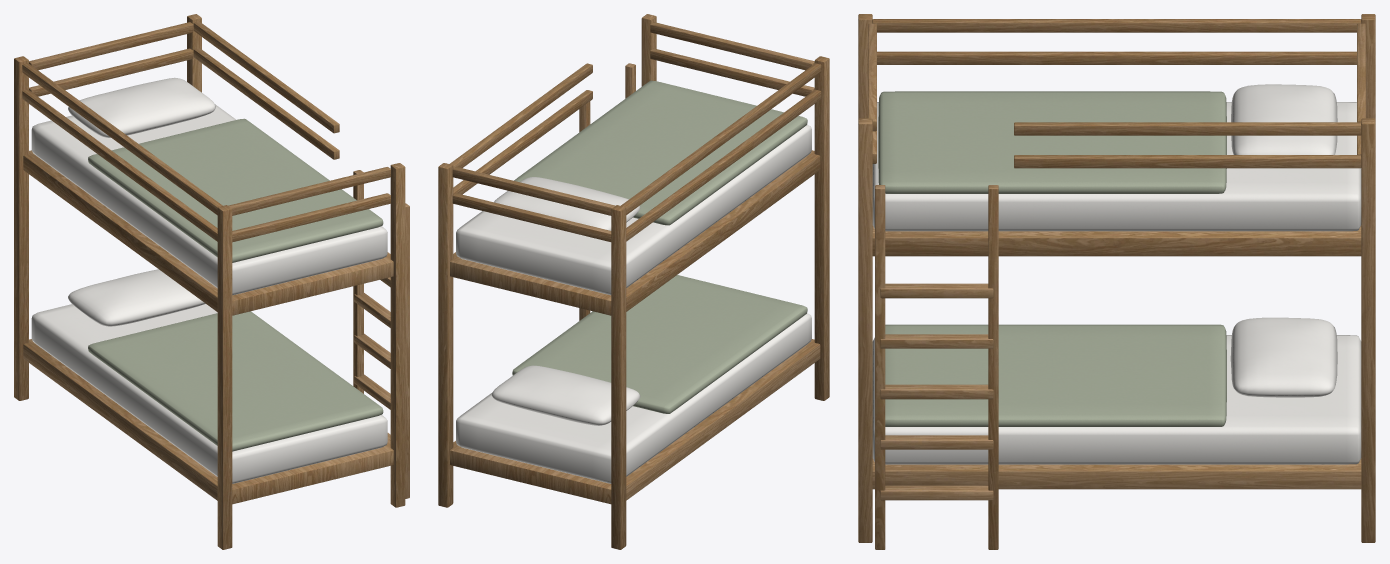
File: litera_madera_90.glb
The picture shows the model from 3 angles, left to right: view 1: azimuth 30°, elevation 25°; view 2: azimuth 150°, elevation 25°; view 3: azimuth 270°, elevation 25°; orthographic projection. The views are drawn at different scales.
Visible parts, largest first — view 1: litera_madera_90; view 2: litera_madera_90; view 3: litera_madera_90.
Part boxes in pixels (x1,y1,x2,y2): litera_madera_90: (14, 14, 409, 549); litera_madera_90: (438, 14, 829, 549); litera_madera_90: (858, 14, 1375, 549).
Bounding box in the file's own units: 1.09 × 1.8 × 2.01.
Materials: 3 (3 with a texture image).
